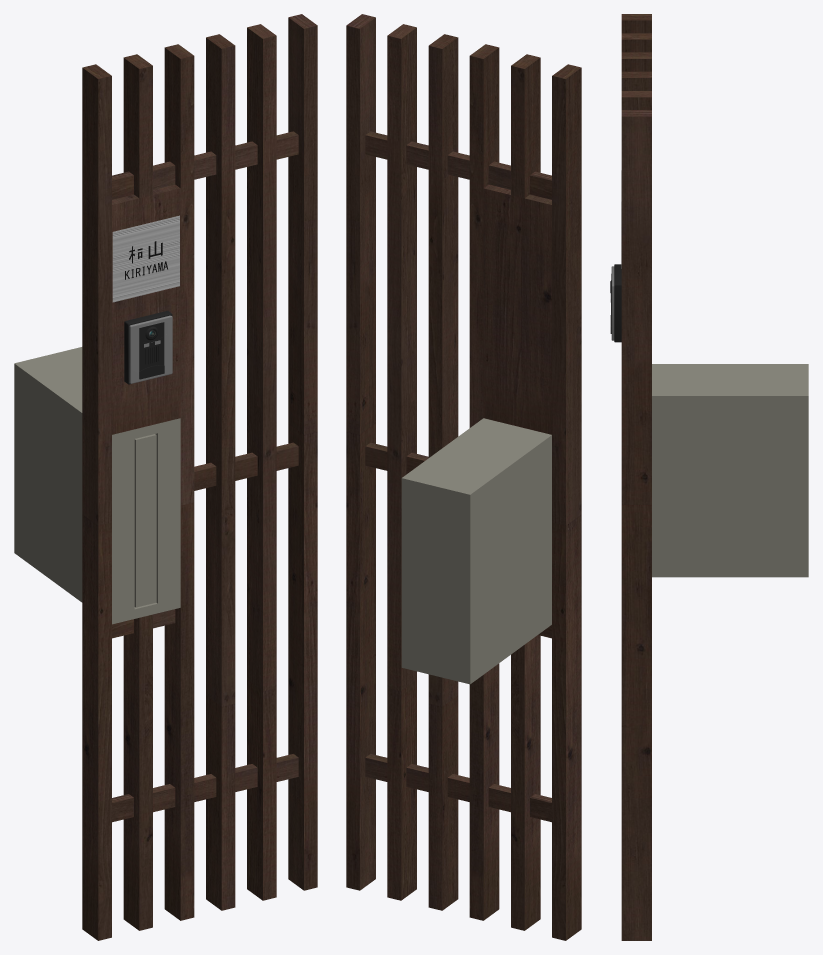
File: designmonchu-kousi_darkpine.fbx
3 renders of one model, left to right at view 1: azimuth 30°, elevation 25°; view 2: azimuth 150°, elevation 25°; view 3: azimuth 270°, elevation 25°, orthographic. The views are drawn at different scales.
Visible parts, largest first — view 1: designmonchu-kousi_darkpine2; view 2: designmonchu-kousi_darkpine2; view 3: designmonchu-kousi_darkpine2.
Part boxes in pixels (box(x1,y1,x2,y2)): designmonchu-kousi_darkpine2: box(14, 14, 317, 940); designmonchu-kousi_darkpine2: box(346, 14, 581, 940); designmonchu-kousi_darkpine2: box(610, 14, 808, 940).
Size of the model in its own units: 48 by 180 by 39.3.
7 materials, 6 textured.
